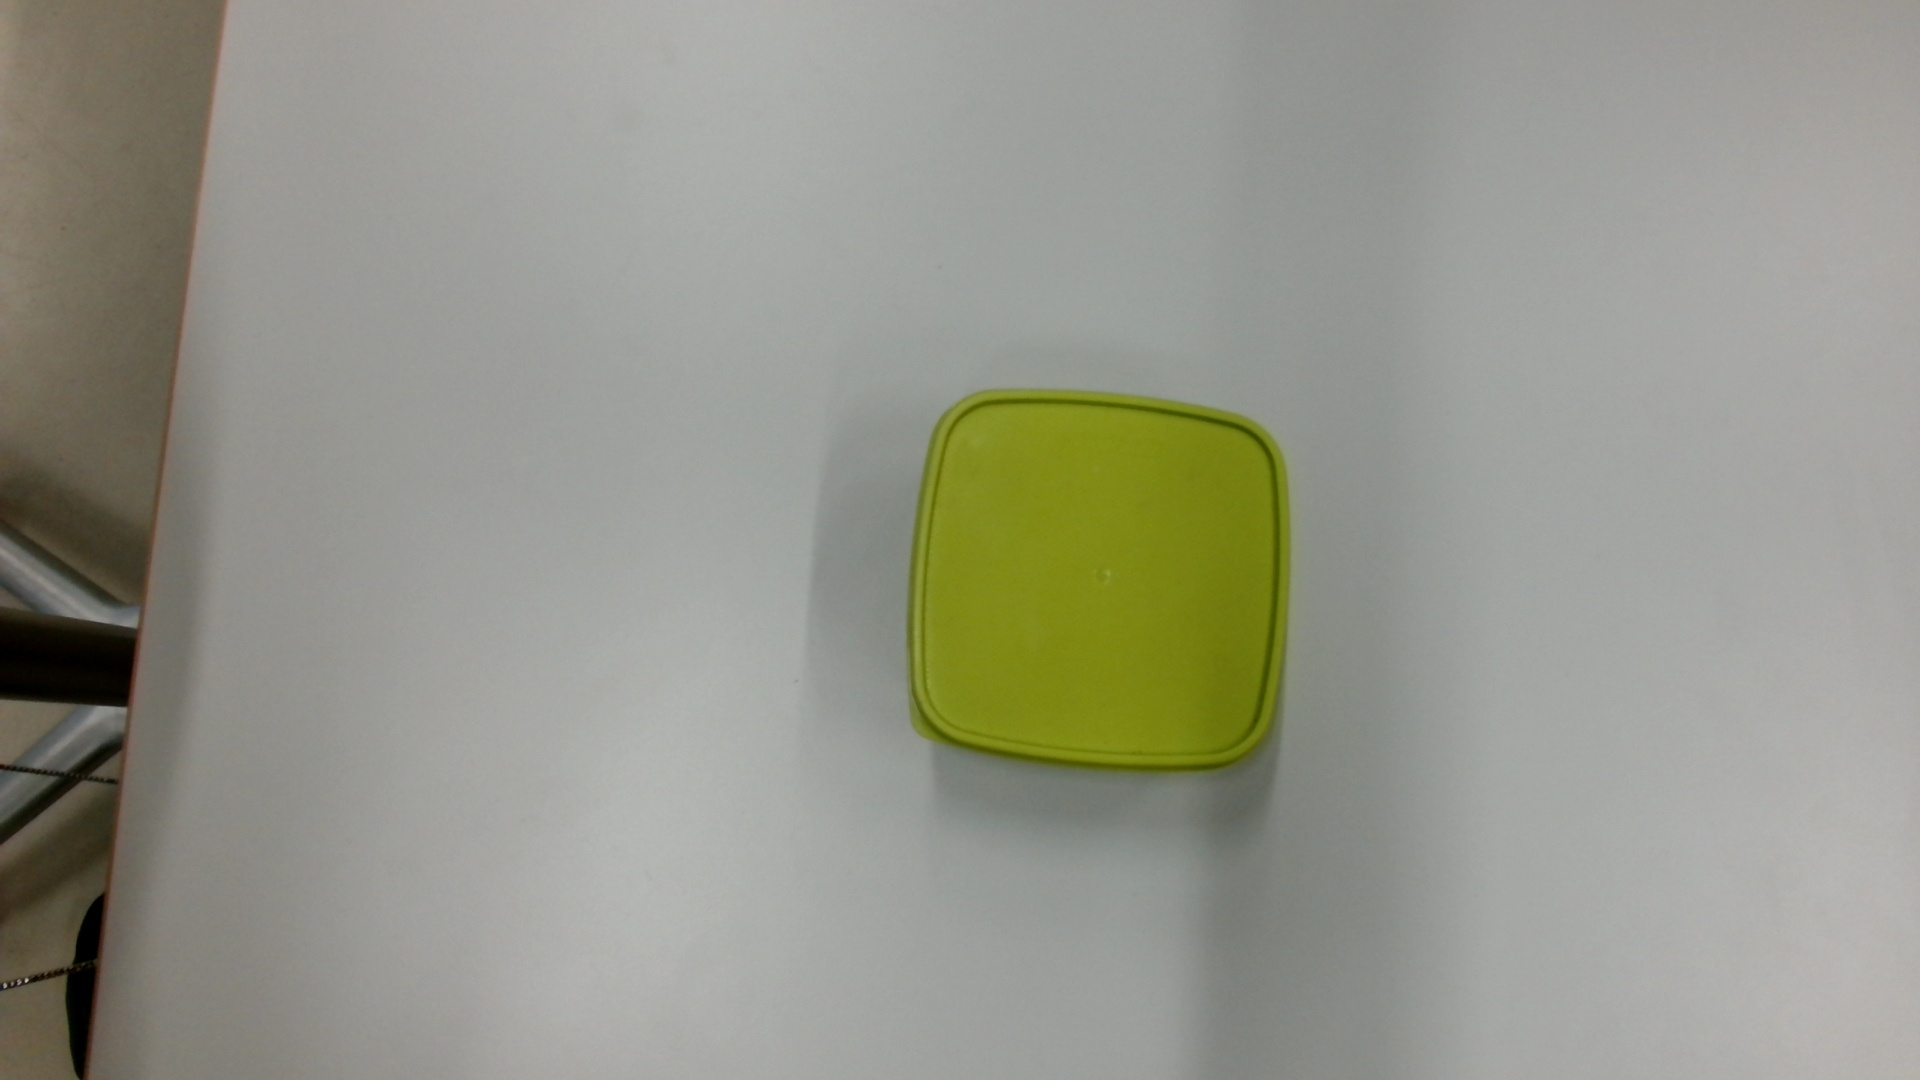Box: (899, 377, 1294, 783)
